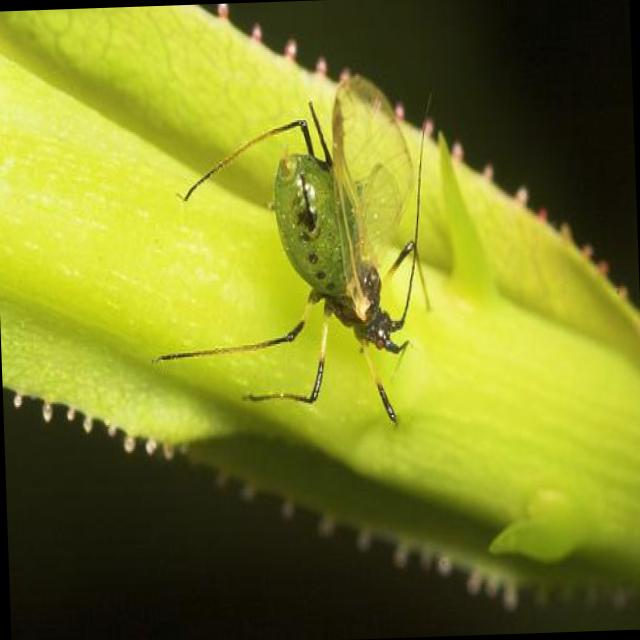Aphid: (160, 70, 460, 435)
